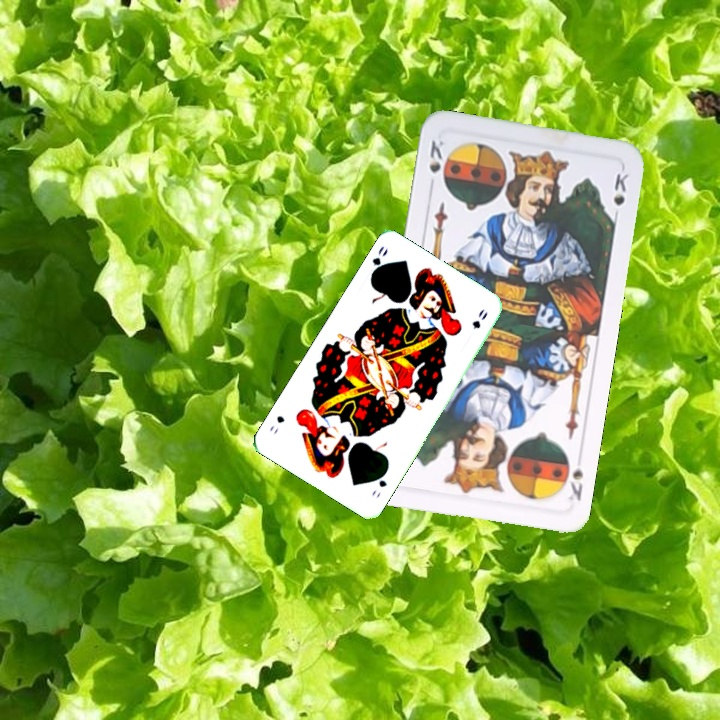GO: (366, 241, 391, 281), (367, 466, 390, 500)
SK: (425, 136, 447, 176), (564, 465, 586, 503)
